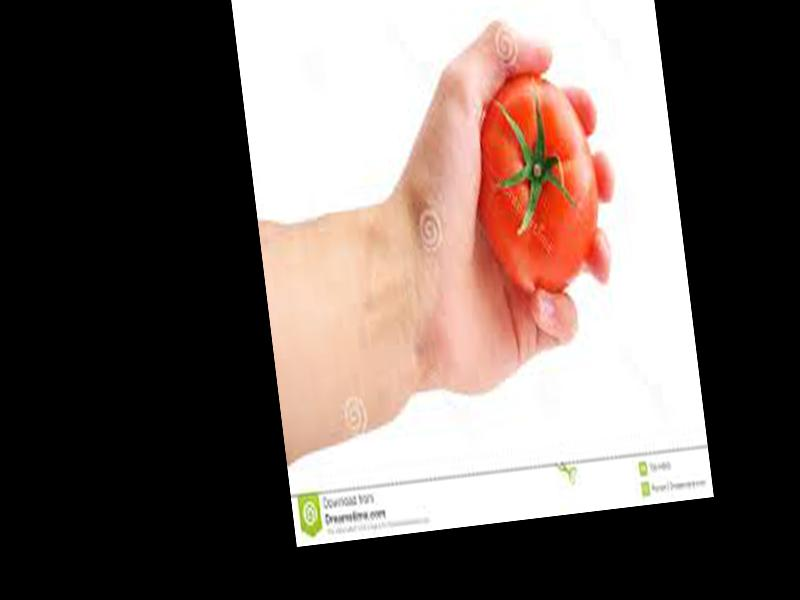Tomato: (468, 71, 608, 301)
